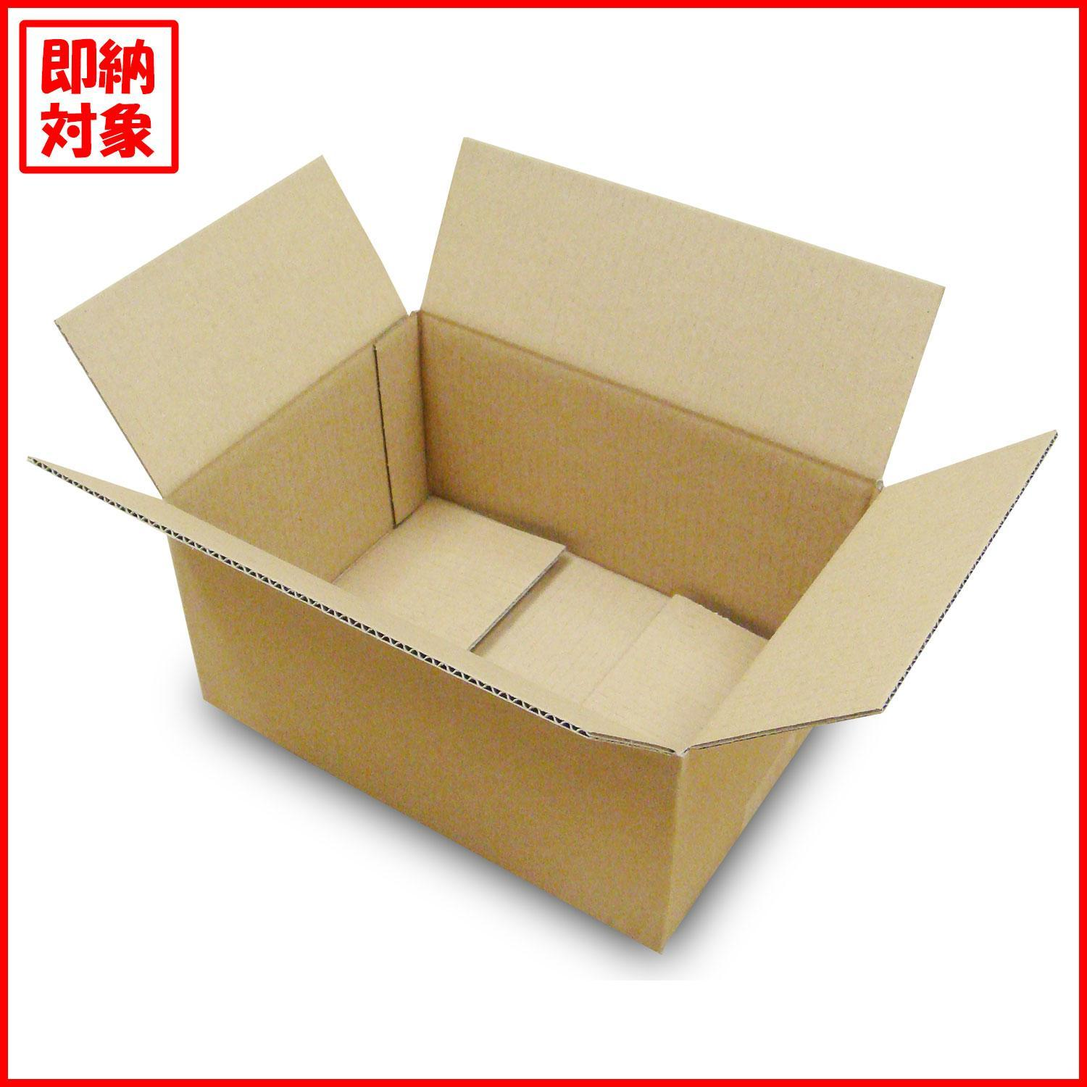box: (73, 140, 1049, 963)
